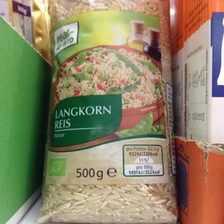rice: (45, 1, 179, 223)
